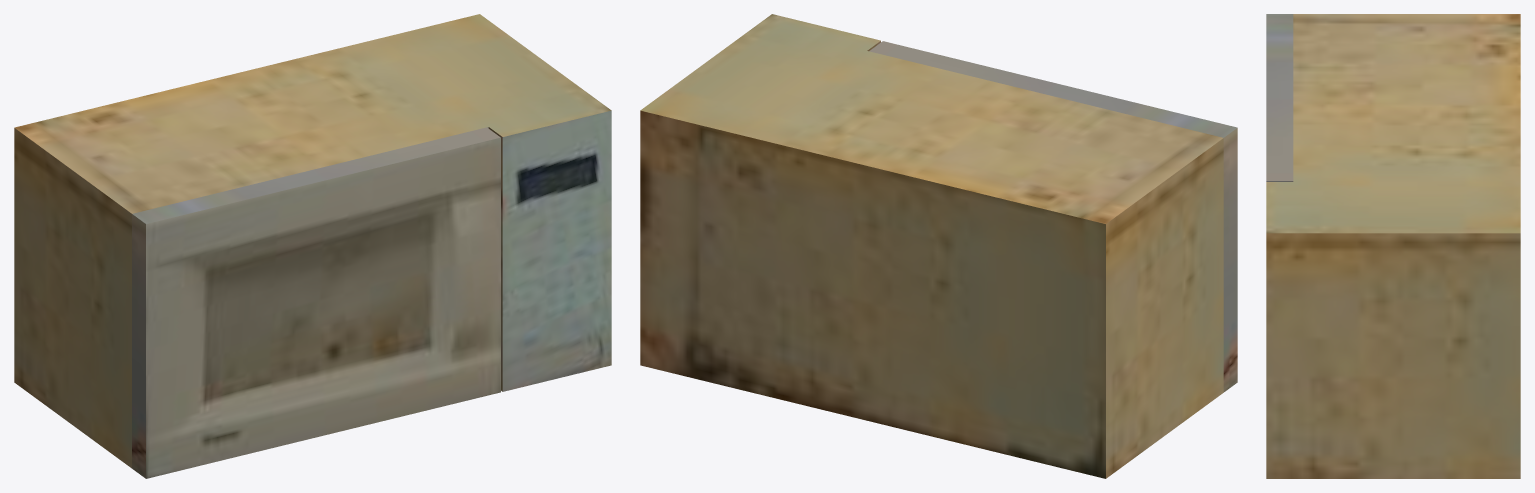
The model's file is roach_microwave.FBX.
3 views of the same model, side by side, from view 1: azimuth 30°, elevation 25°; view 2: azimuth 150°, elevation 25°; view 3: azimuth 270°, elevation 25° (orthographic). The views are drawn at different scales.
Parts seen in each view (by area): view 1: microwave, microwave_door; view 2: microwave, microwave_door; view 3: microwave, microwave_door.
Part boxes in pixels (x1,y1,x2,y2): microwave: [14, 14, 611, 468]; microwave_door: [132, 127, 500, 478]; microwave: [640, 14, 1223, 478]; microwave_door: [869, 41, 1237, 392]; microwave: [1266, 14, 1520, 478]; microwave_door: [1266, 14, 1293, 181].
Bounding box in the file's own units: 23.18 × 12.12 × 11.38.
